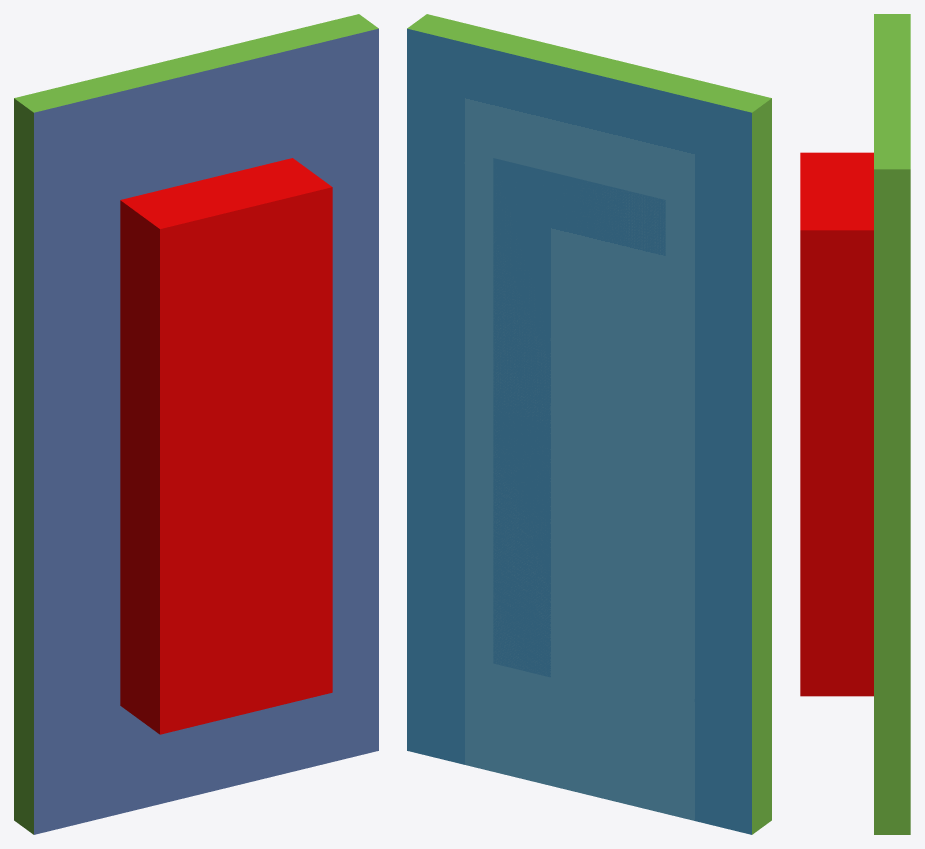
File: Switch.glb
3 renders of one model, left to right at view 1: azimuth 30°, elevation 25°; view 2: azimuth 150°, elevation 25°; view 3: azimuth 270°, elevation 25°, orthographic. The views are drawn at different scales.
Parts seen in each view (by area): view 1: SwitchBase, Switch; view 2: SwitchBase, Switch; view 3: Switch, SwitchBase.
Boxes of the visible parts, bbox=[...] form: SwitchBase: bbox=[14, 14, 378, 834]; Switch: bbox=[120, 158, 332, 734]; SwitchBase: bbox=[407, 14, 771, 834]; Switch: bbox=[493, 158, 665, 705]; Switch: bbox=[800, 152, 873, 696]; SwitchBase: bbox=[874, 14, 910, 834].
Bounding box in the file's own units: 0.2 × 0.4 × 0.06.
1 material, 1 textured.
